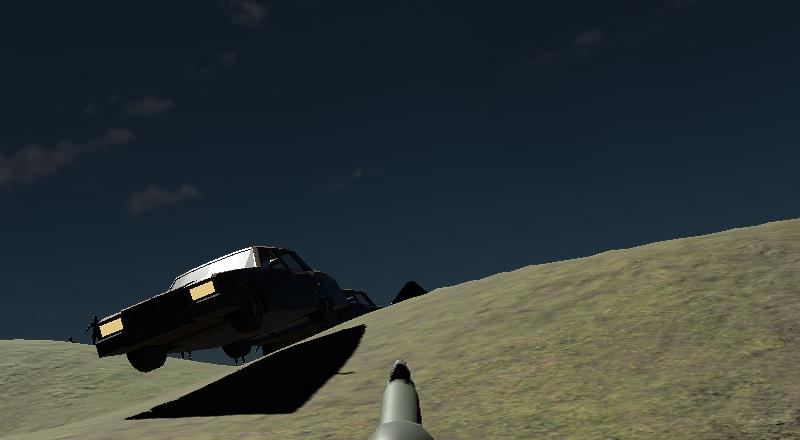car: (83, 243, 361, 376)
